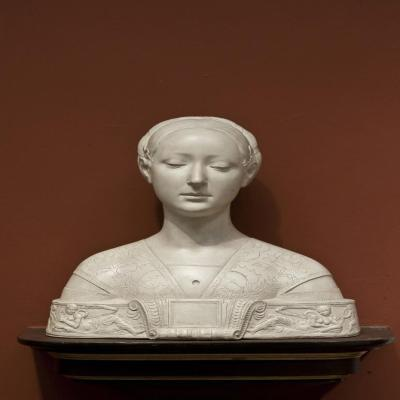sculpture: (45, 117, 362, 341)
